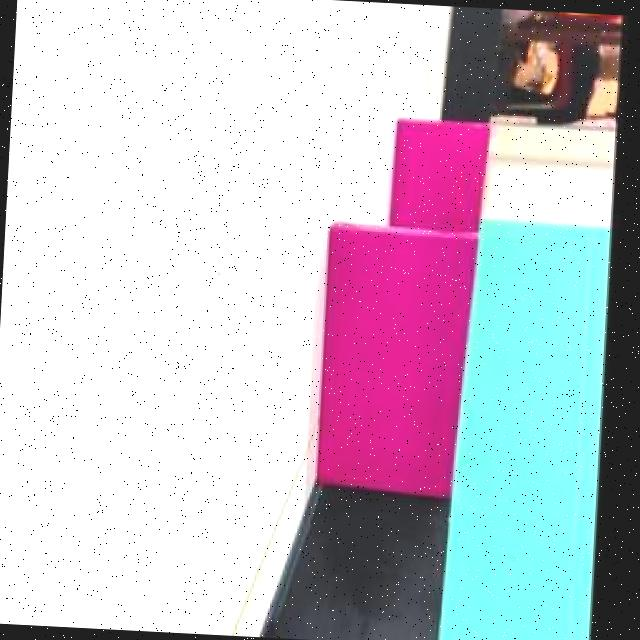xparking: (314, 230, 464, 489), (390, 124, 480, 232)
